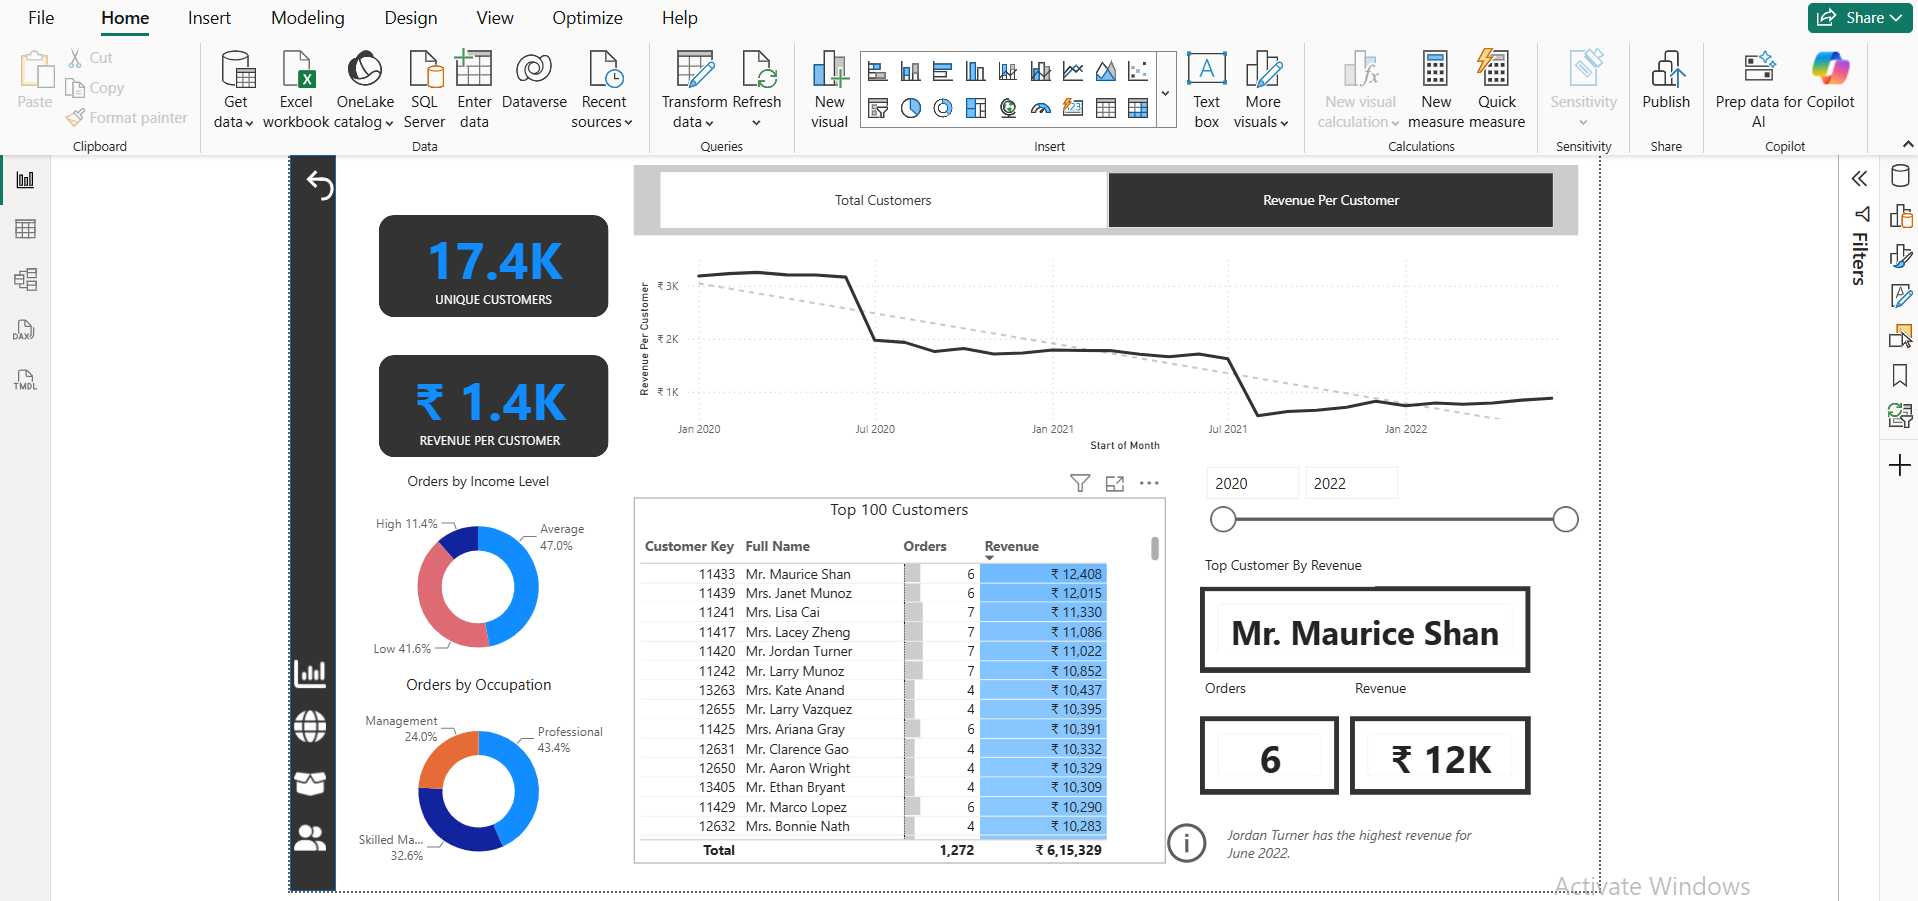

Layout of this report page (visuals, bound fields, positions):
{"tool":"powerbi","page":{"name":"Customer Detail","canvas":[1280,720],"ordinal":3},"visuals":[{"type":"shape","box":[0,0,45,720.3],"z":0},{"type":"actionButton","box":[0,487.8,45.5,39.6],"z":0,"group":"g2"},{"type":"shape","box":[86.3,58.7,225,100],"z":1000},{"type":"actionButton","box":[0,539.3,45.5,39.6],"z":1000,"group":"g2"},{"type":"card","fields":{"Values":["Measure Table.Total Customers"]},"box":[82.7,45.5,232.5,125.8],"z":2000,"group":"g1"},{"type":"shape","box":[86.3,195.4,225,100],"z":2000},{"type":"actionButton","box":[0,595.1,45.5,39.6],"z":2000,"group":"g2"},{"type":"group","id":"g1","title":"Group 1","box":[79.1,45.5,236.1,263.7],"z":3000},{"type":"card","fields":{"Values":["Measure Table.Aveaverage Revenue Per Customer"]},"box":[79.1,183.3,232.5,125.8],"z":3000,"group":"g1"},{"type":"actionButton","box":[0,648.1,45.5,39.6],"z":3000,"group":"g2"},{"type":"lineChart","title":"Customers Trending","fields":{"Category":["Calendar Lookup.Date Hierarchy.Start of Year","Calendar Lookup.Date Hierarchy.Start of Month","Calendar Lookup.Date Hierarchy.Start of Week","Calendar Lookup.Date Hierarchy.Date"],"Y":["Measure Table.Aveaverage Revenue Per Customer"]},"box":[335.9,87.9,924.2,207.4],"z":4000},{"type":"donutChart","title":"Orders by Income Level","fields":{"Category":["Customer Lookup.Income Level"],"Y":["Measure Table.Total Orders"]},"box":[55.7,309.1,255.8,197.8],"z":5000},{"type":"donutChart","title":"Orders by Occupation","fields":{"Category":["Customer Lookup.Occupation"],"Y":["Measure Table.Total Orders"]},"box":[55.7,506.9,257,199],"z":6000},{"type":"tableEx","title":"Top 100 Customers","fields":{"Values":["Customer Lookup.CustomerKey","Customer Lookup.Full Name","Measure Table.Total Orders","Measure Table.Total Revenue"]},"box":[335.9,334.8,519.6,358.4],"z":7000},{"type":"cardVisual","fields":{"Data":["Min(Customer Lookup.Full Name)"]},"box":[890.5,421.9,323.5,84.5],"z":8000},{"type":"textbox","box":[871.3,308.8,215.3,50.7],"z":9000},{"type":"cardVisual","fields":{"Data":["Measure Table.Total Orders"]},"box":[890.5,548.9,136.4,76.6],"z":10000},{"type":"cardVisual","fields":{"Data":["Measure Table.Total Revenue"]},"box":[1036.7,548.9,177,76.6],"z":11000},{"type":"textbox","box":[890.5,385.9,171.4,36],"z":12000},{"type":"textbox","box":[890.5,507,136.6,32.4],"z":13000},{"type":"textbox","box":[1036.7,507,167.8,32.4],"z":14000},{"type":"slicer","fields":{"Values":["Calendar Lookup.Year"]},"box":[884.5,294.8,384.7,88.7],"z":15000},{"type":"actionButton","box":[852.3,647.7,329.5,50],"z":16000},{"type":"actionButton","box":[10,10,45.5,39.8],"z":17000},{"type":"group","id":"g2","title":"Navigation Buttons","box":[0,487.8,45.5,199.9],"z":17001},{"type":"slicer","fields":{"Values":["Customer Metric Selection.Customer Metric Selection"]},"box":[335.9,10.1,924.2,68.8],"z":17002}]}

Visuals, with their boxes on the page's 1280x720 design canvas (x1, y1, x2, y2). These are canvas units, not pixel positions in the 1918x901 screenshot, which may show the page scaled, cropped or inside an application window:
shape: (x1=0, y1=0, x2=45, y2=720)
actionButton: (x1=0, y1=488, x2=46, y2=527)
shape: (x1=86, y1=59, x2=311, y2=159)
actionButton: (x1=0, y1=539, x2=46, y2=579)
card - Measure Table.Total Customers: (x1=83, y1=46, x2=315, y2=171)
shape: (x1=86, y1=195, x2=311, y2=295)
actionButton: (x1=0, y1=595, x2=46, y2=635)
"Group 1" group: (x1=79, y1=46, x2=315, y2=309)
card - Measure Table.Aveaverage Revenue Per Customer: (x1=79, y1=183, x2=312, y2=309)
actionButton: (x1=0, y1=648, x2=46, y2=688)
"Customers Trending" lineChart: (x1=336, y1=88, x2=1260, y2=295)
"Orders by Income Level" donutChart: (x1=56, y1=309, x2=312, y2=507)
"Orders by Occupation" donutChart: (x1=56, y1=507, x2=313, y2=706)
"Top 100 Customers" tableEx: (x1=336, y1=335, x2=856, y2=693)
cardVisual - Min(Customer Lookup.Full Name): (x1=890, y1=422, x2=1214, y2=506)
textbox: (x1=871, y1=309, x2=1087, y2=360)
cardVisual - Measure Table.Total Orders: (x1=890, y1=549, x2=1027, y2=626)
cardVisual - Measure Table.Total Revenue: (x1=1037, y1=549, x2=1214, y2=626)
textbox: (x1=890, y1=386, x2=1062, y2=422)
textbox: (x1=890, y1=507, x2=1027, y2=539)
textbox: (x1=1037, y1=507, x2=1204, y2=539)
slicer - Calendar Lookup.Year: (x1=884, y1=295, x2=1269, y2=384)
actionButton: (x1=852, y1=648, x2=1182, y2=698)
actionButton: (x1=10, y1=10, x2=56, y2=50)
"Navigation Buttons" group: (x1=0, y1=488, x2=46, y2=688)
slicer - Customer Metric Selection.Customer Metric Selection: (x1=336, y1=10, x2=1260, y2=79)
